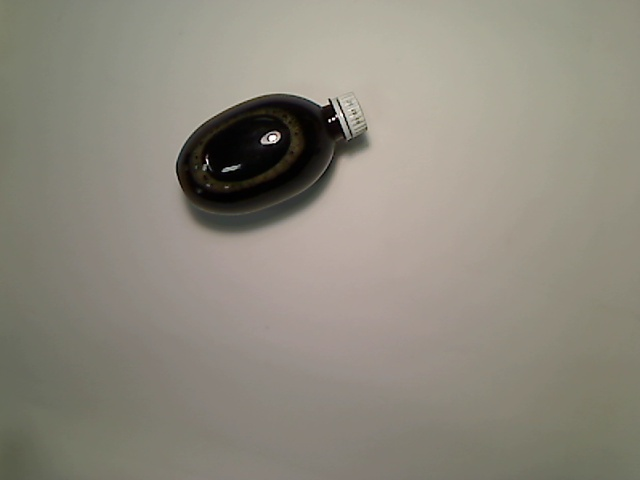plast_bottle: (173, 89, 370, 220)
